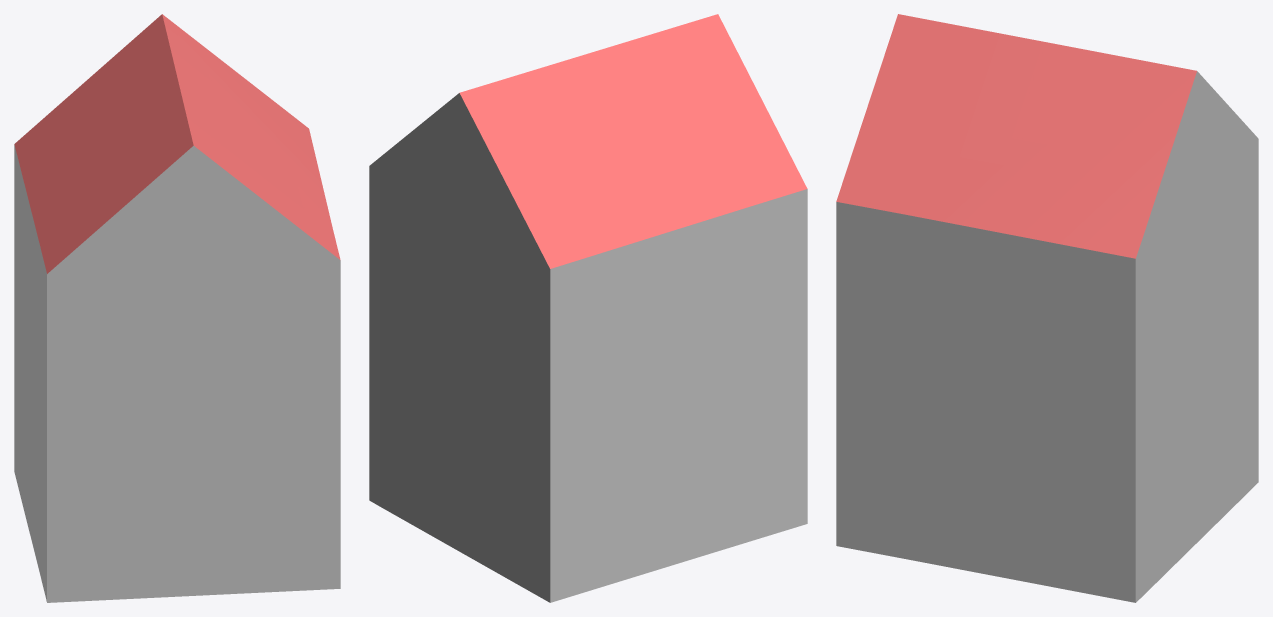
The model's file is DEBY_LOD2_4907166.gltf.
The picture shows the model from 3 angles, left to right: view 1: azimuth 30°, elevation 25°; view 2: azimuth 150°, elevation 25°; view 3: azimuth 270°, elevation 25°; orthographic projection. The views are drawn at different scales.
Parts seen in each view (by area): view 1: Z_UP; view 2: Z_UP; view 3: Z_UP.
Part boxes in pixels (x1,y1,x2,y2): Z_UP: (14,14,340,602); Z_UP: (369,14,807,602); Z_UP: (836,14,1258,602).
Size of the model in its own units: 16.62 by 20.67 by 16.77.
